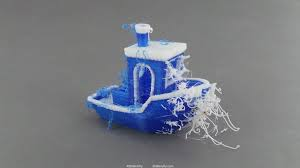fail: (161, 53, 249, 154), (96, 67, 136, 131), (75, 92, 103, 115), (119, 22, 146, 37)
